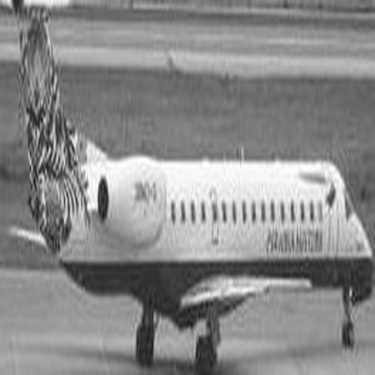airplane: (6, 4, 370, 372)
